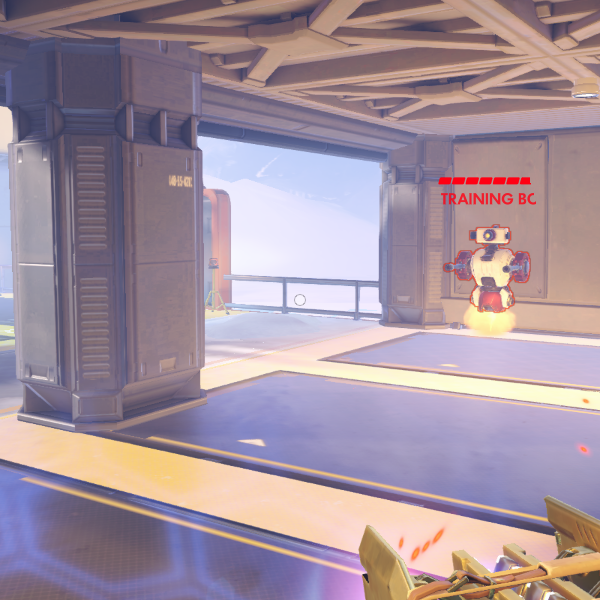hpbar: (438, 176, 533, 186)
